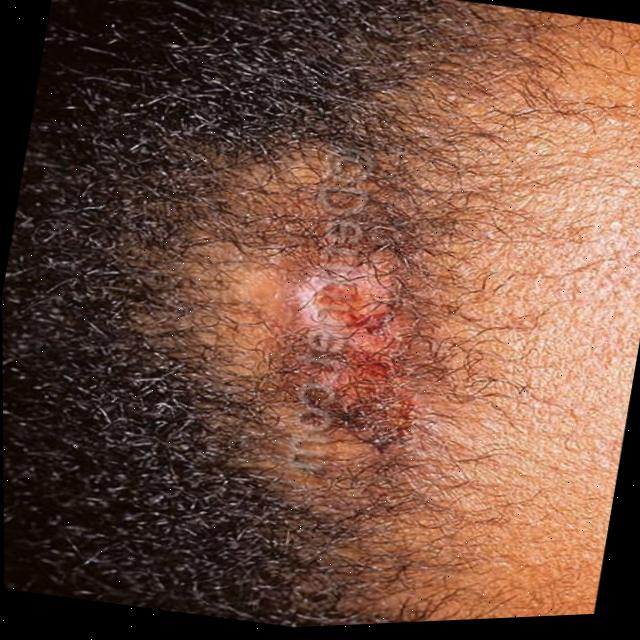Eczema: (265, 244, 450, 460)
